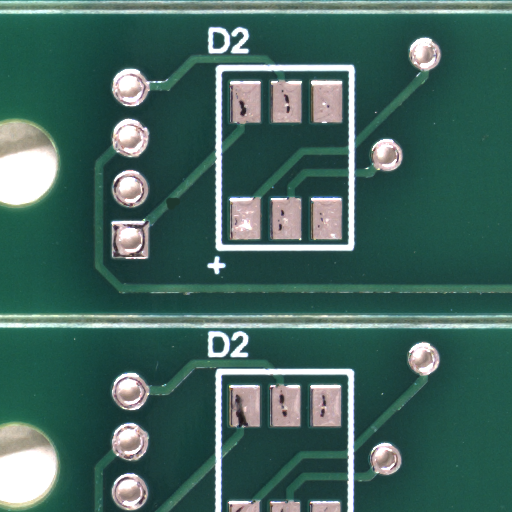Mouse_bite: (172, 202, 185, 215)
